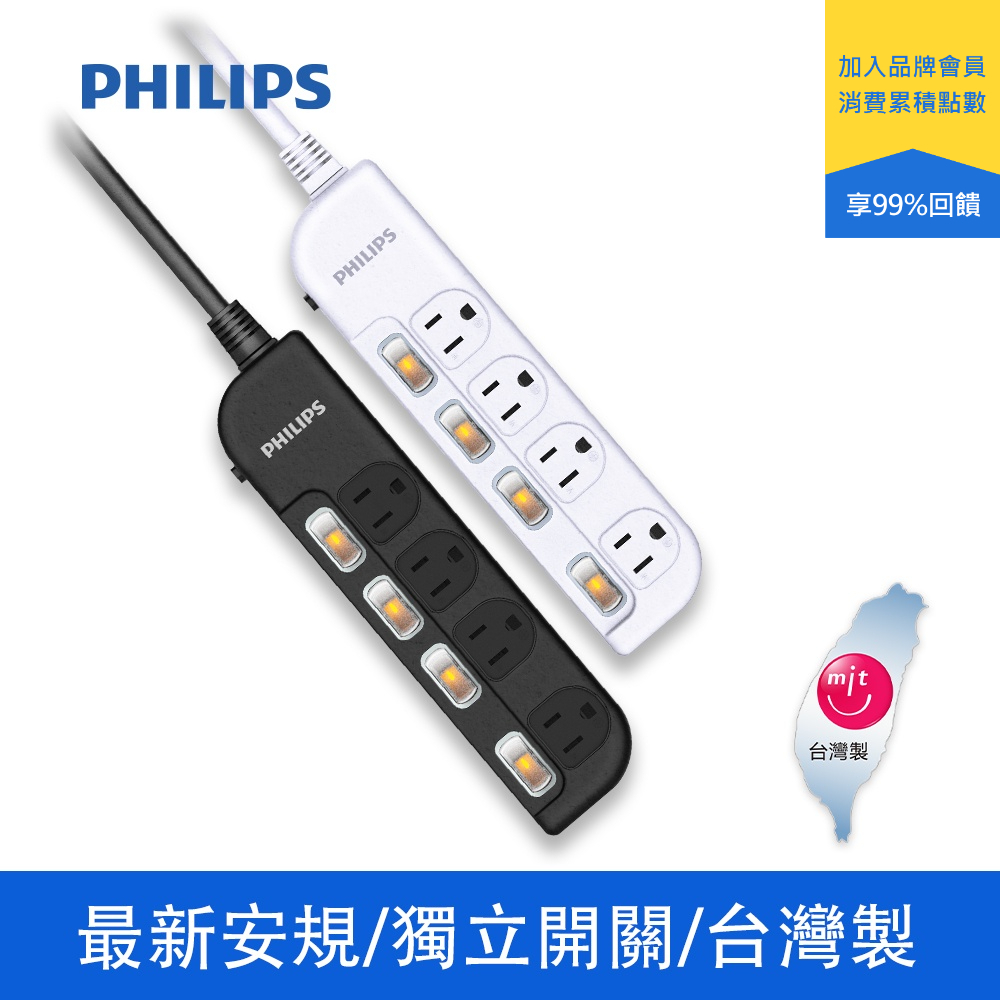socket: (206, 301, 633, 835), (280, 135, 702, 653)
